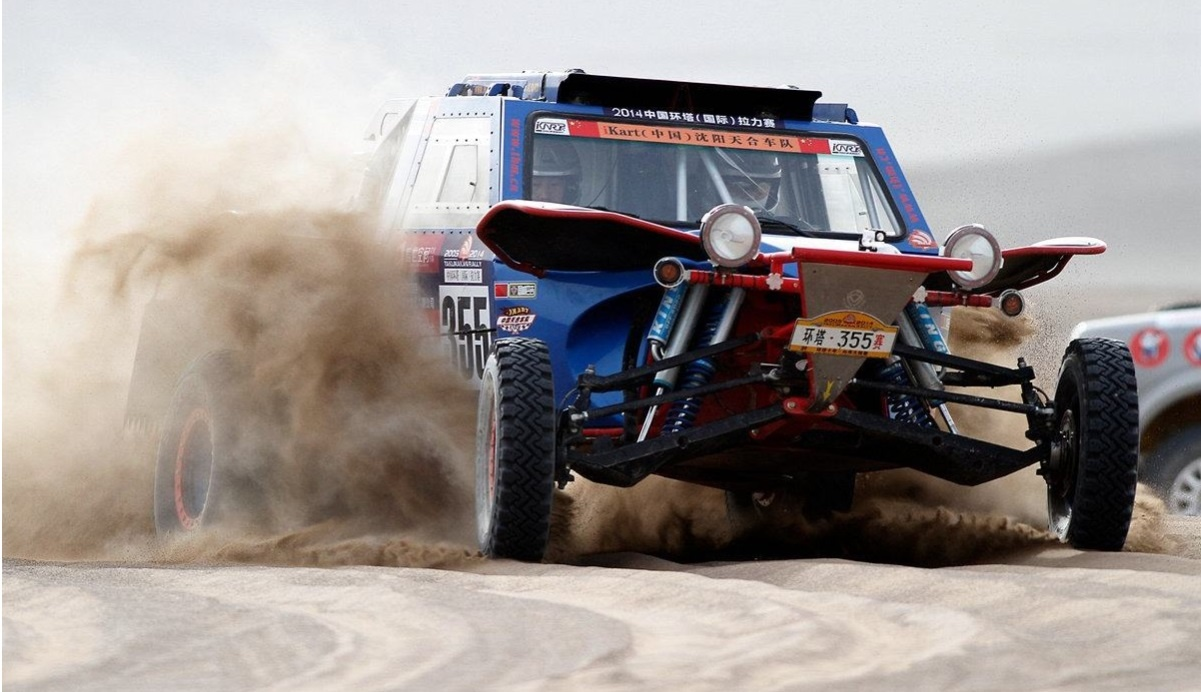racing car: (287, 27, 1136, 553)
